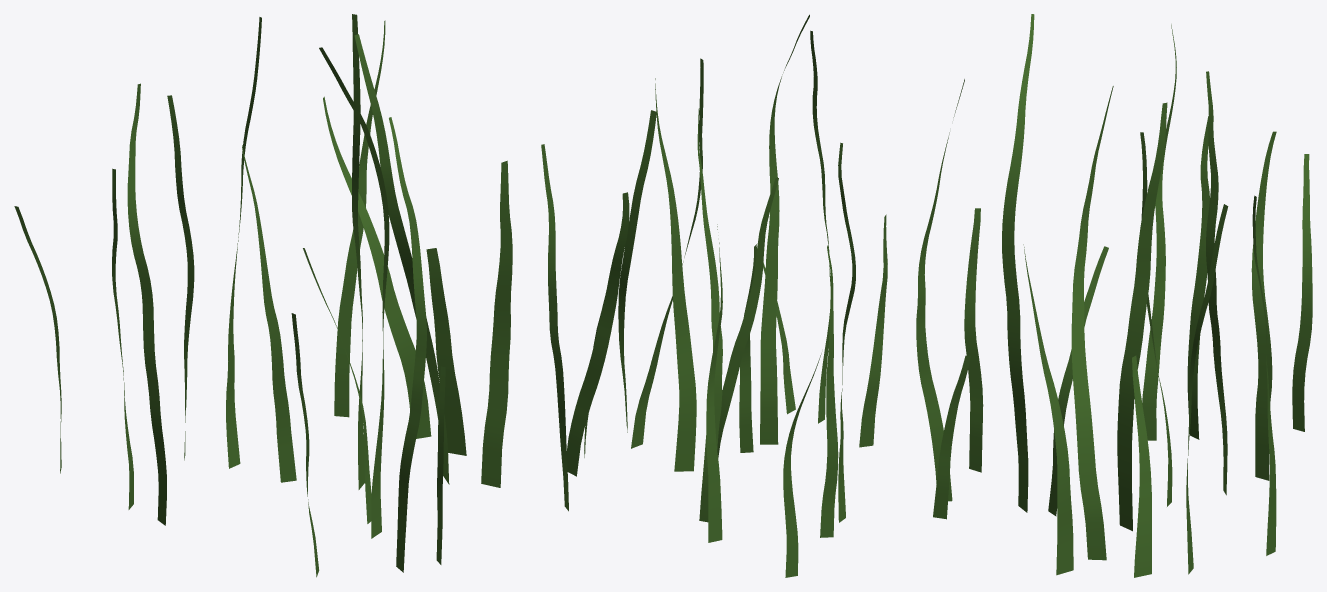
The model's file is plant_swamp_kelp_giant_B_light.fbx.
The picture shows the model from 3 angles, left to right: view 1: azimuth 30°, elevation 25°; view 2: azimuth 150°, elevation 25°; view 3: azimuth 270°, elevation 25°; orthographic projection. The views are drawn at different scales.
Visible parts, largest first — view 1: plant_swamp_kelp_giant_B_light; view 2: plant_swamp_kelp_giant_B_light; view 3: plant_swamp_kelp_giant_B_light.
Boxes of the visible parts, x1,y1,x2,y2 form: plant_swamp_kelp_giant_B_light: (14, 14, 512, 577); plant_swamp_kelp_giant_B_light: (541, 14, 887, 577); plant_swamp_kelp_giant_B_light: (916, 14, 1312, 577).
Bounding box in the file's own units: 442 × 579 × 440.
